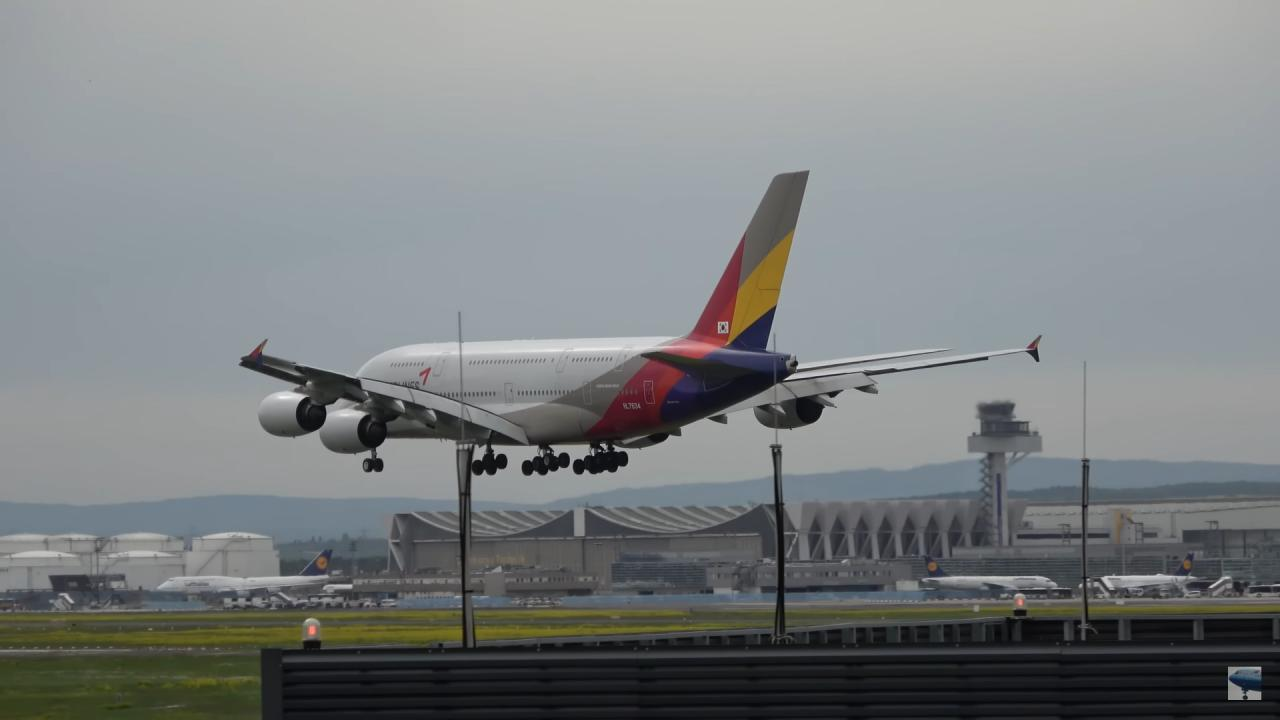Airplane: (223, 156, 1061, 486)
